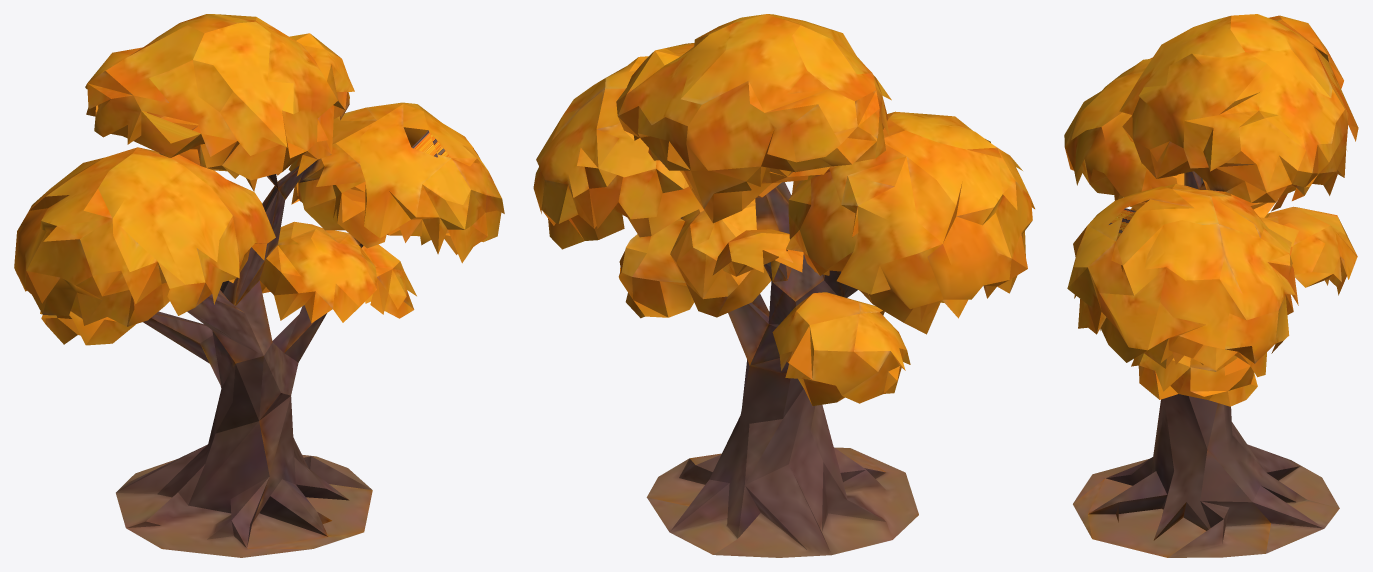
File: tree-elm.glb
The picture shows the model from 3 angles, left to right: view 1: azimuth 30°, elevation 25°; view 2: azimuth 150°, elevation 25°; view 3: azimuth 270°, elevation 25°; orthographic projection. The views are drawn at different scales.
Size of the model in its own units: 8.91 by 9 by 4.99.
Materials: 1 (1 with a texture image).
